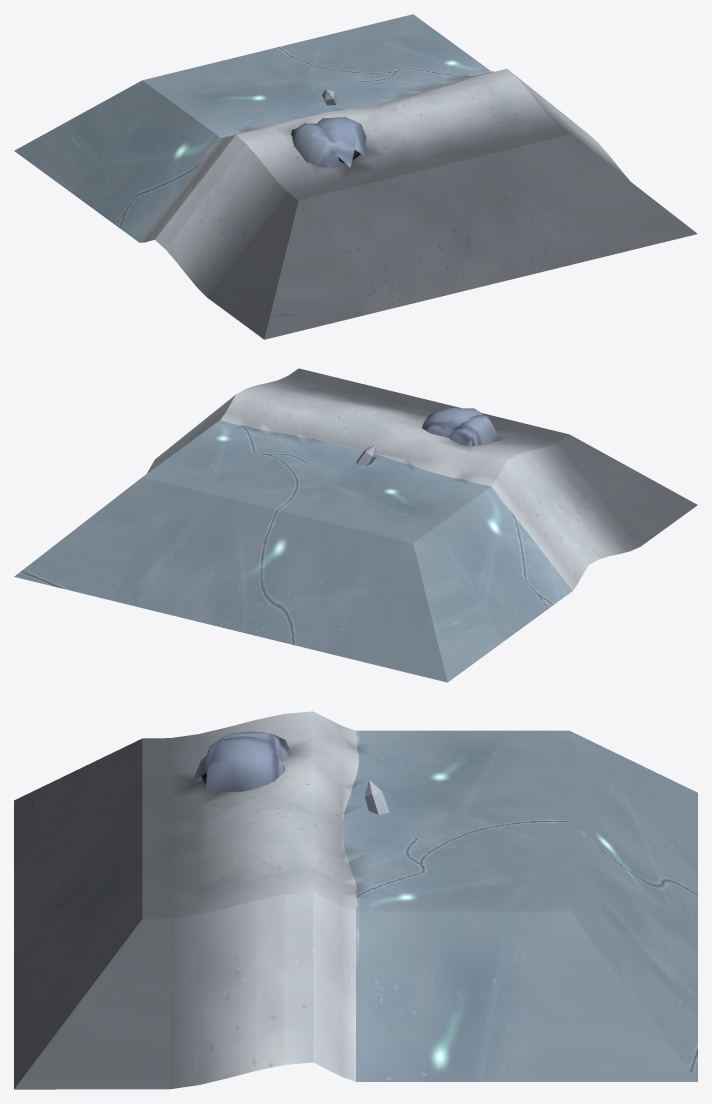
Rendered from helheim_gjoll_edge.glb.
3 renders of one model, top to bottom at view 1: azimuth 30°, elevation 25°; view 2: azimuth 150°, elevation 25°; view 3: azimuth 270°, elevation 25°, orthographic. The views are drawn at different scales.
Visible parts, largest first — view 1: helheim_gjoll_edge; view 2: helheim_gjoll_edge; view 3: helheim_gjoll_edge.
Part boxes in pixels (bbox=[...]): helheim_gjoll_edge: bbox=[14, 14, 697, 339]; helheim_gjoll_edge: bbox=[14, 368, 697, 682]; helheim_gjoll_edge: bbox=[14, 711, 697, 1089].
Bounding box in the file's own units: 1.6 × 0.4203 × 1.6.
4 materials, 4 textured.
